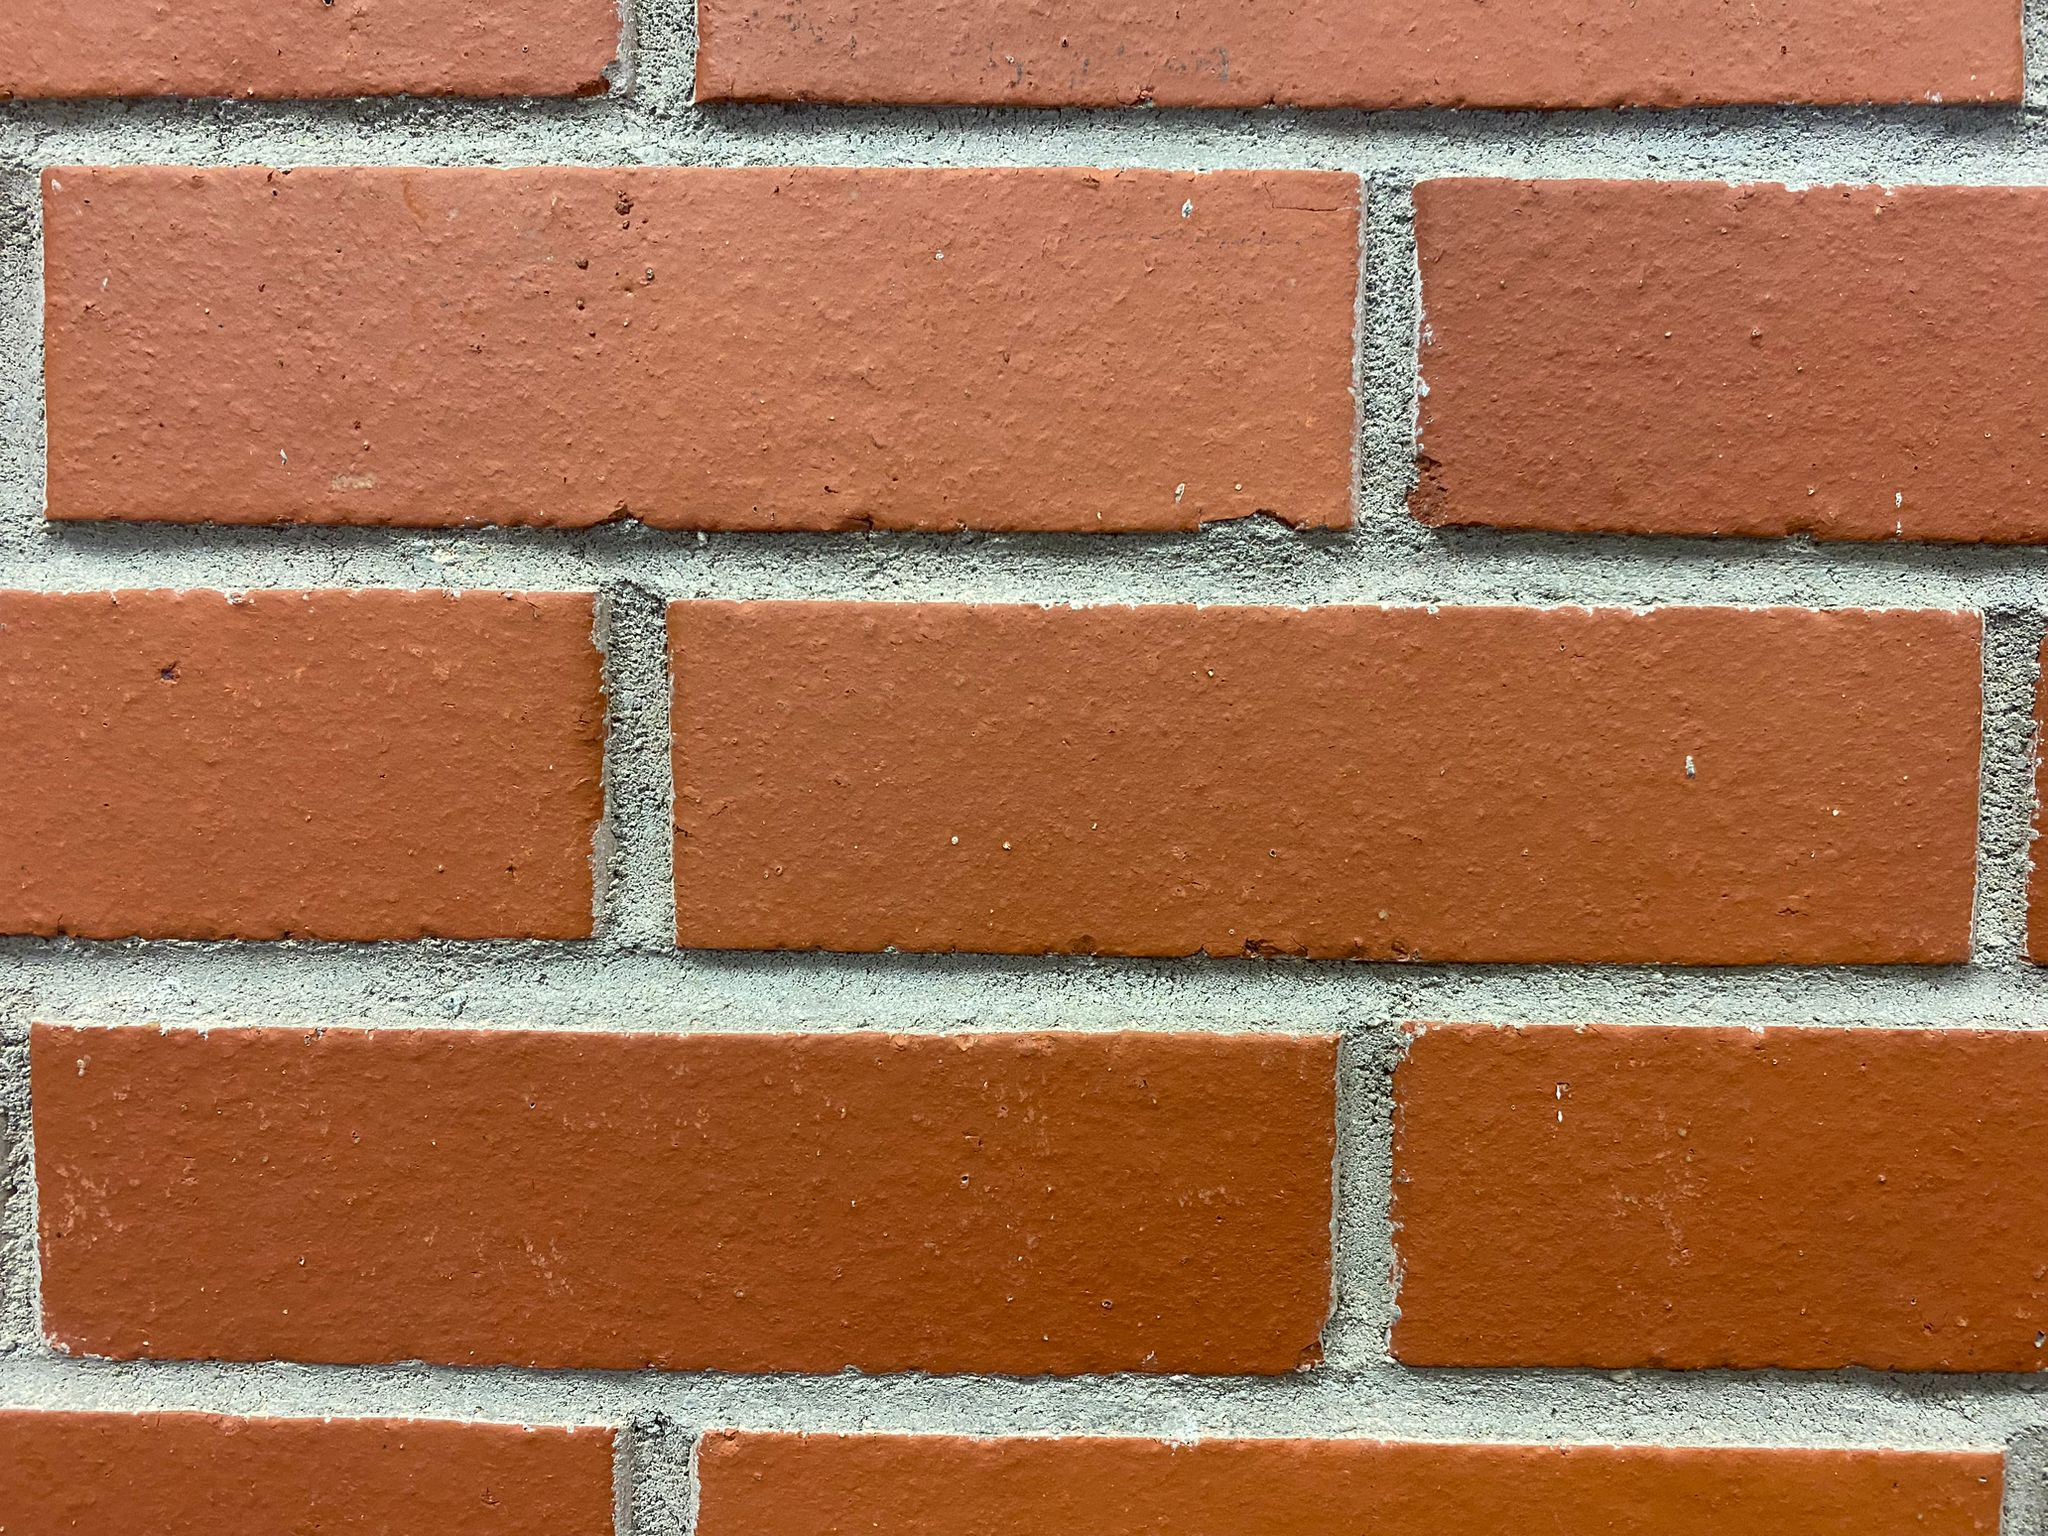redbrick: (637, 557, 2016, 1055), (26, 134, 1401, 603), (2, 1000, 1376, 1404), (1372, 984, 2048, 1423), (1384, 161, 2048, 586), (2, 560, 647, 992)
